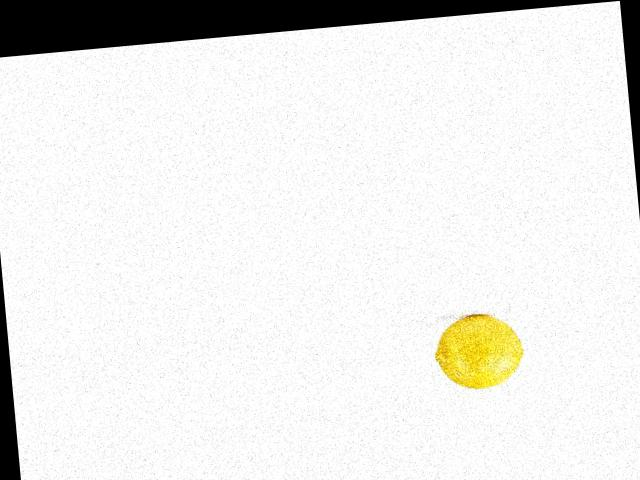lemon: (418, 308, 535, 395)
